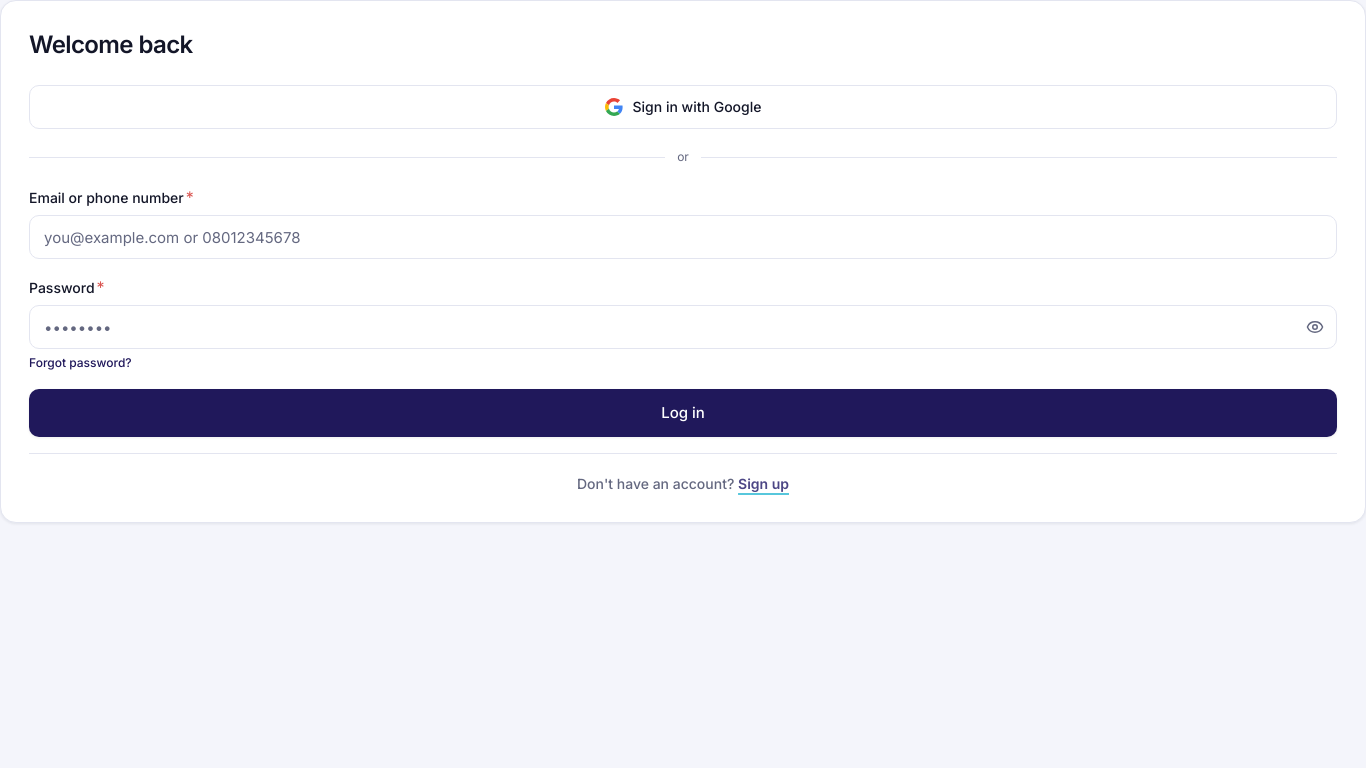
Scenario: Login › validates before submitting
Click the button "Log in".
click(683, 413)  # box [29,389,1337,437]
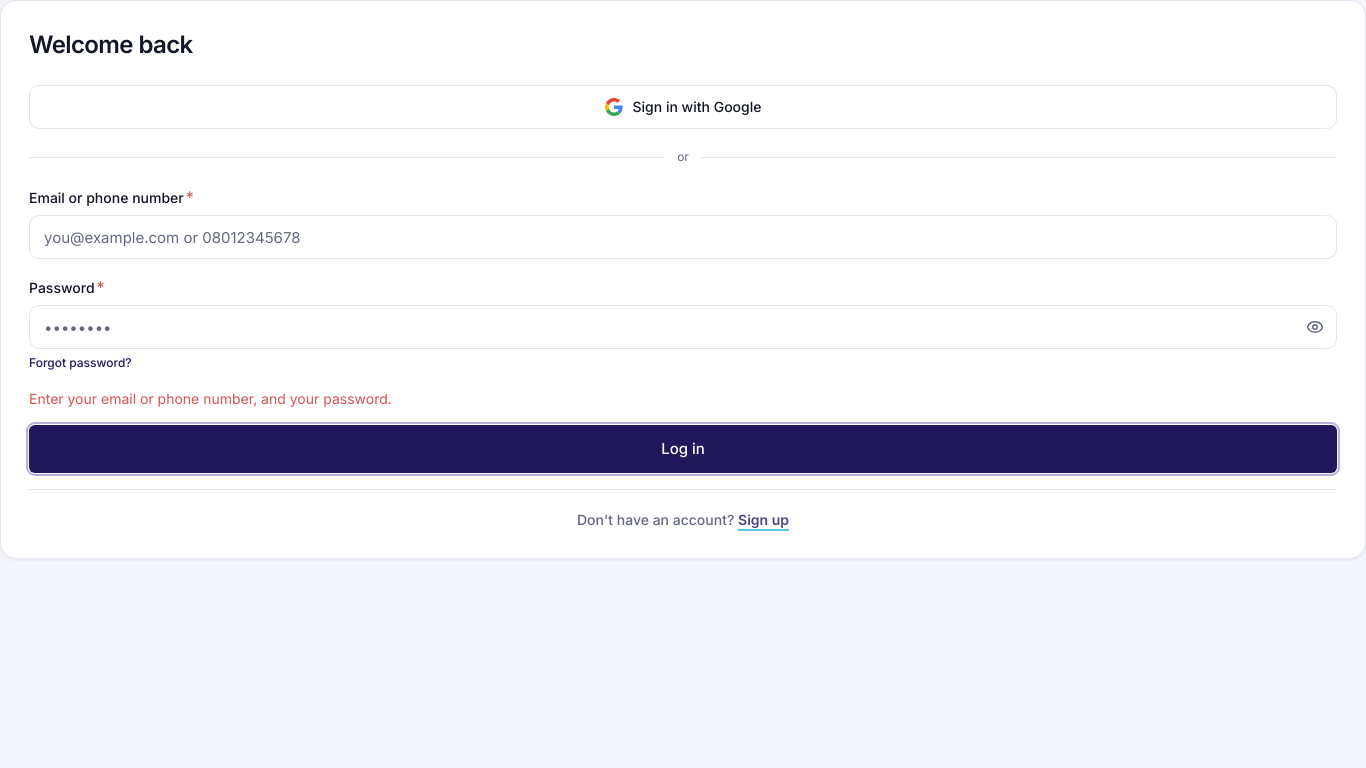
Now the message shows "email or phone number", box [29,390,392,407]
